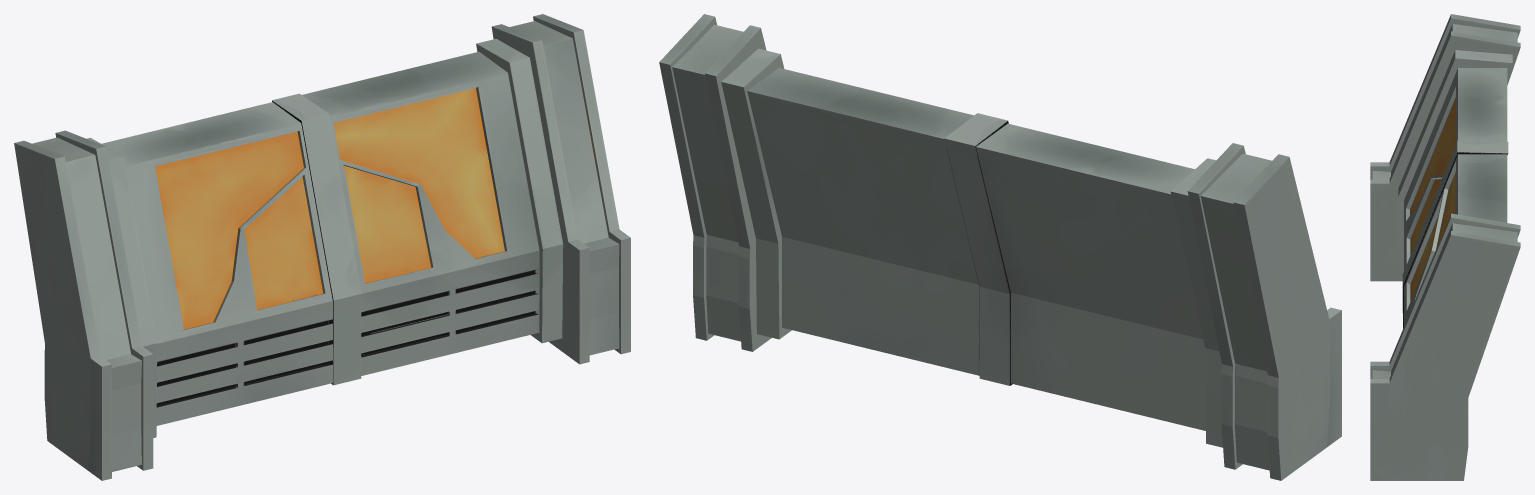
The model's file is Futuristic Wall.fbx.
The picture shows the model from 3 angles, left to right: view 1: azimuth 30°, elevation 25°; view 2: azimuth 150°, elevation 25°; view 3: azimuth 270°, elevation 25°; orthographic projection. The views are drawn at different scales.
Visible parts, largest first — view 1: Futuristic Wall; view 2: Futuristic Wall; view 3: Futuristic Wall.
Boxes of the visible parts, left/top/right/bottom form: Futuristic Wall: left=14, top=14, right=630, bottom=480; Futuristic Wall: left=659, top=14, right=1341, bottom=480; Futuristic Wall: left=1370, top=14, right=1520, bottom=480.
Size of the model in its own units: 1082 by 562 by 312.
1 material, 1 textured.
